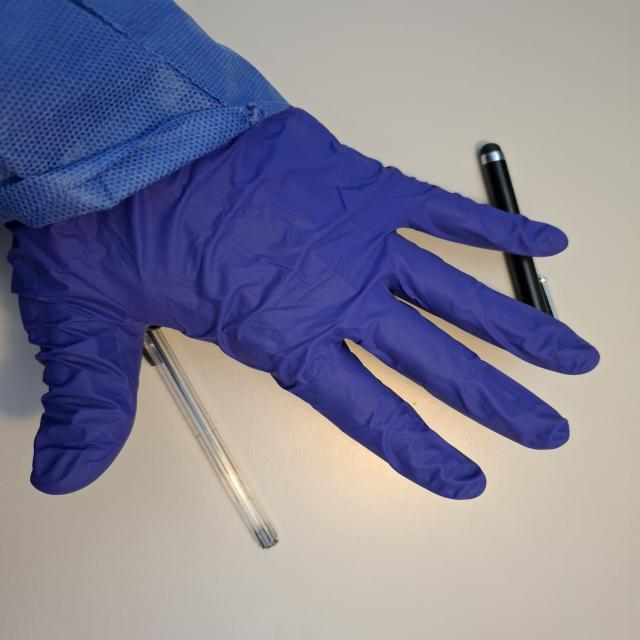glove_on: (4, 105, 604, 502)
